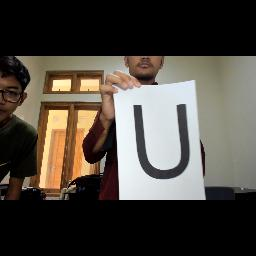u: (124, 98, 198, 184)
